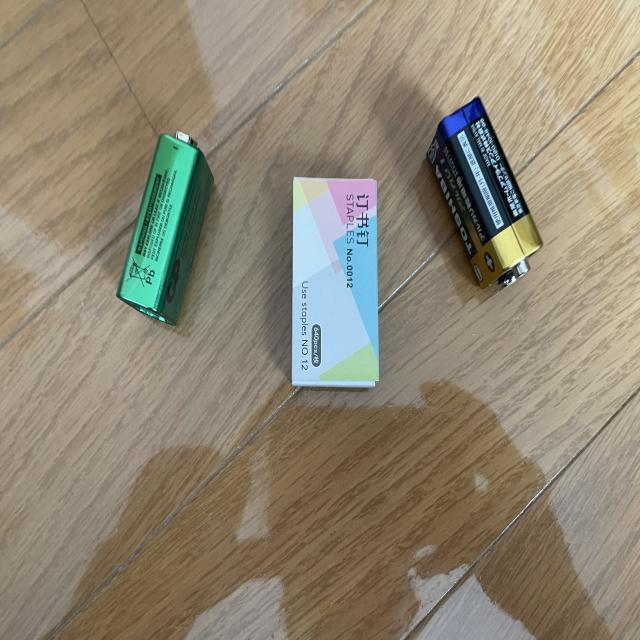9V: (428, 96, 541, 291), (117, 132, 214, 327)
